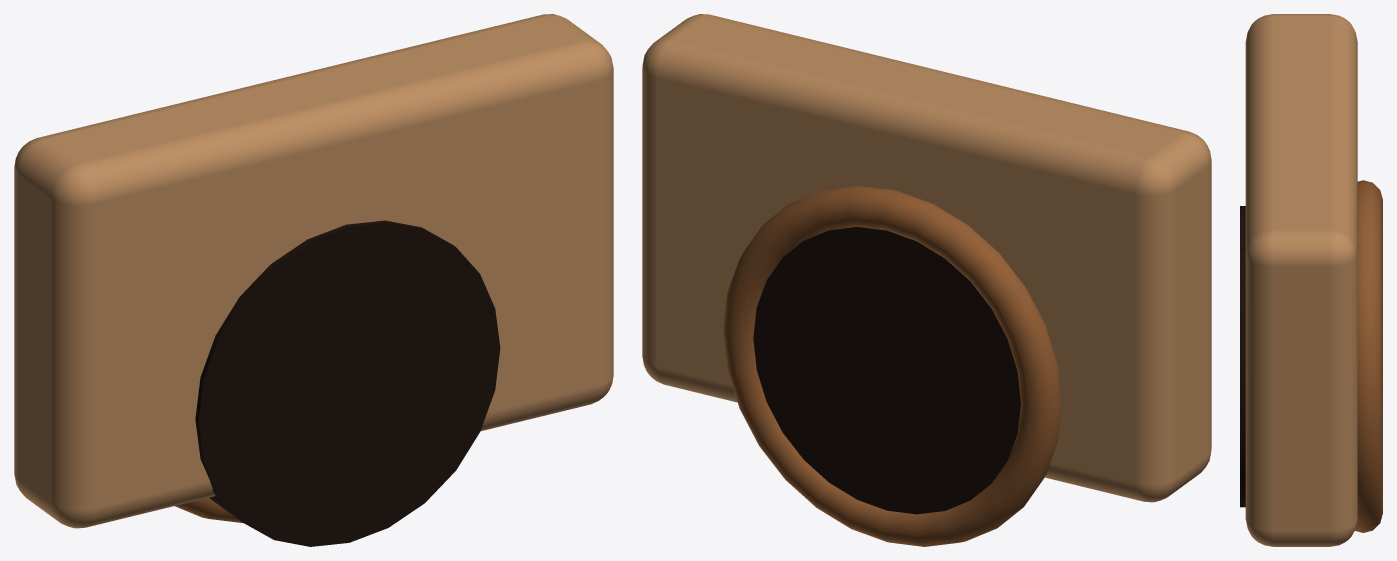
The model's file is entrada.glb.
3 views of the same model, side by side, from view 1: azimuth 30°, elevation 25°; view 2: azimuth 150°, elevation 25°; view 3: azimuth 270°, elevation 25° (orthographic). The views are drawn at different scales.
Parts seen in each view (by area): view 1: Rodapié, Agujero, Marco; view 2: Rodapié, Agujero, Marco; view 3: Rodapié, Marco, Agujero.
Boxes of the visible parts, bbox=[...] form: Rodapié: bbox=[14, 14, 613, 528]; Agujero: bbox=[195, 220, 500, 546]; Marco: bbox=[174, 497, 243, 523]; Rodapié: bbox=[642, 14, 1211, 502]; Agujero: bbox=[753, 227, 1020, 514]; Marco: bbox=[723, 186, 1061, 546]; Rodapié: bbox=[1245, 14, 1357, 546]; Marco: bbox=[1354, 180, 1382, 532]; Agujero: bbox=[1240, 206, 1245, 507].
Size of the model in its own units: 1 by 0.775 by 0.255.
